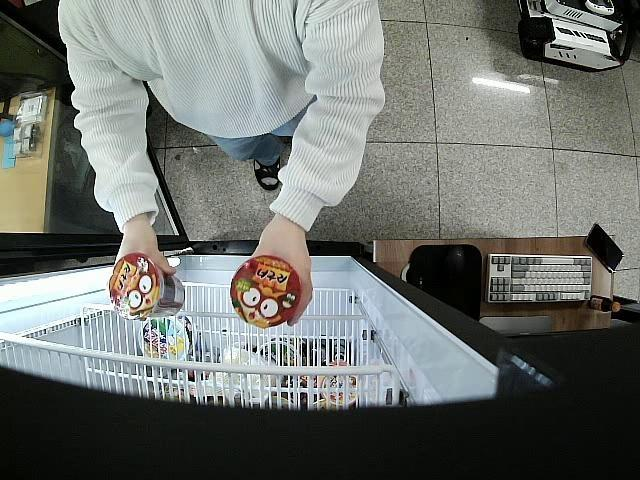06_nuguri_S: (106, 253, 186, 320), (232, 254, 302, 330)
